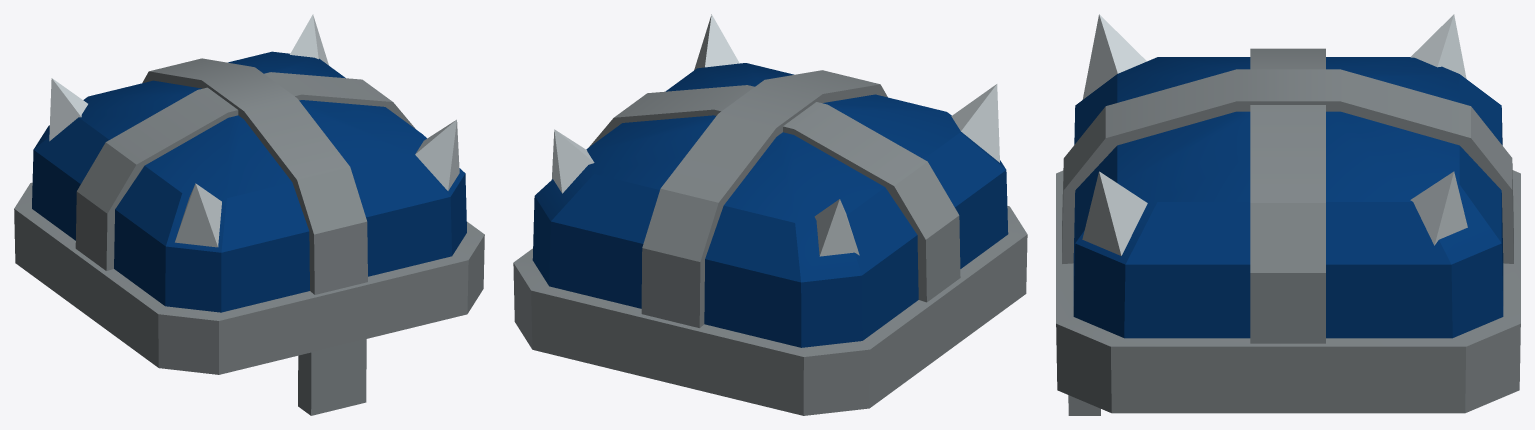
Rendered from Helmet 01.FBX.
The picture shows the model from 3 angles, left to right: view 1: azimuth 30°, elevation 25°; view 2: azimuth 150°, elevation 25°; view 3: azimuth 270°, elevation 25°; orthographic projection. The views are drawn at different scales.
Visible parts, largest first — view 1: Helmet 01; view 2: Helmet 01; view 3: Helmet 01.
Boxes of the visible parts, x1,y1,x2,y2 form: Helmet 01: [14, 14, 484, 415]; Helmet 01: [513, 14, 1027, 415]; Helmet 01: [1056, 14, 1520, 415].
Size of the model in its own units: 64.75 by 48.26 by 64.75.
1 material, 1 textured.
